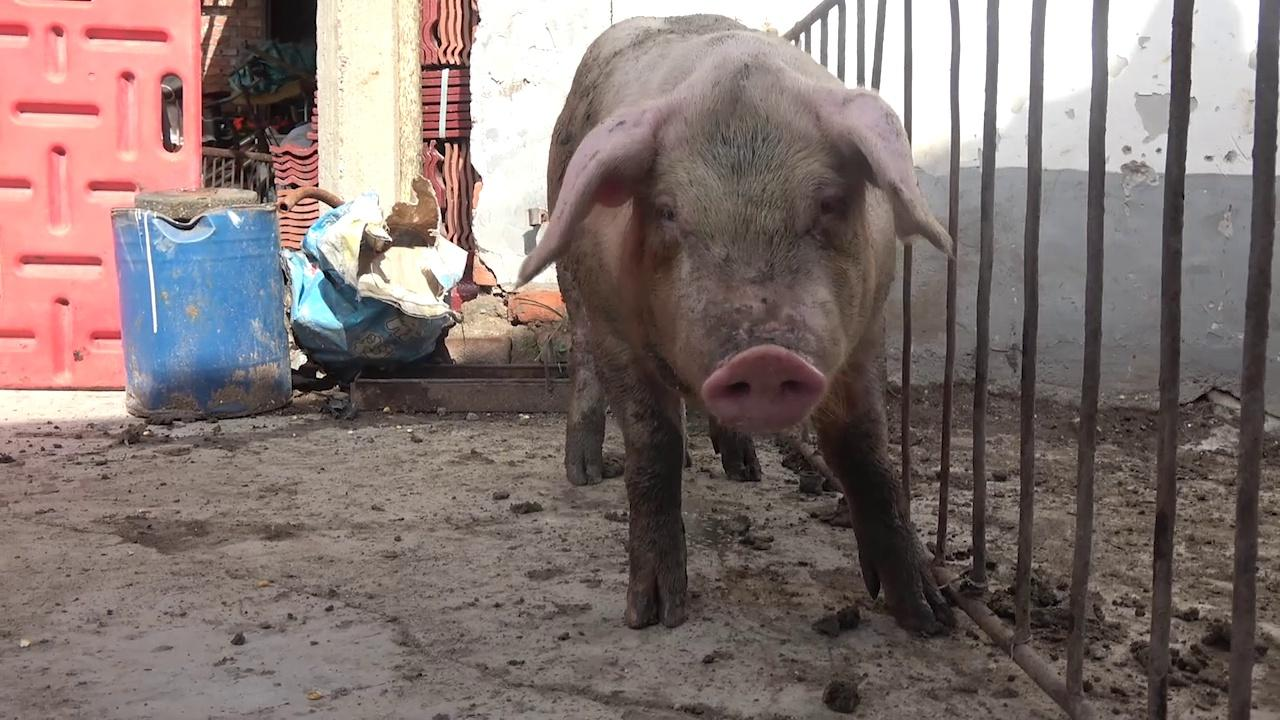Face: (513, 65, 961, 446)
